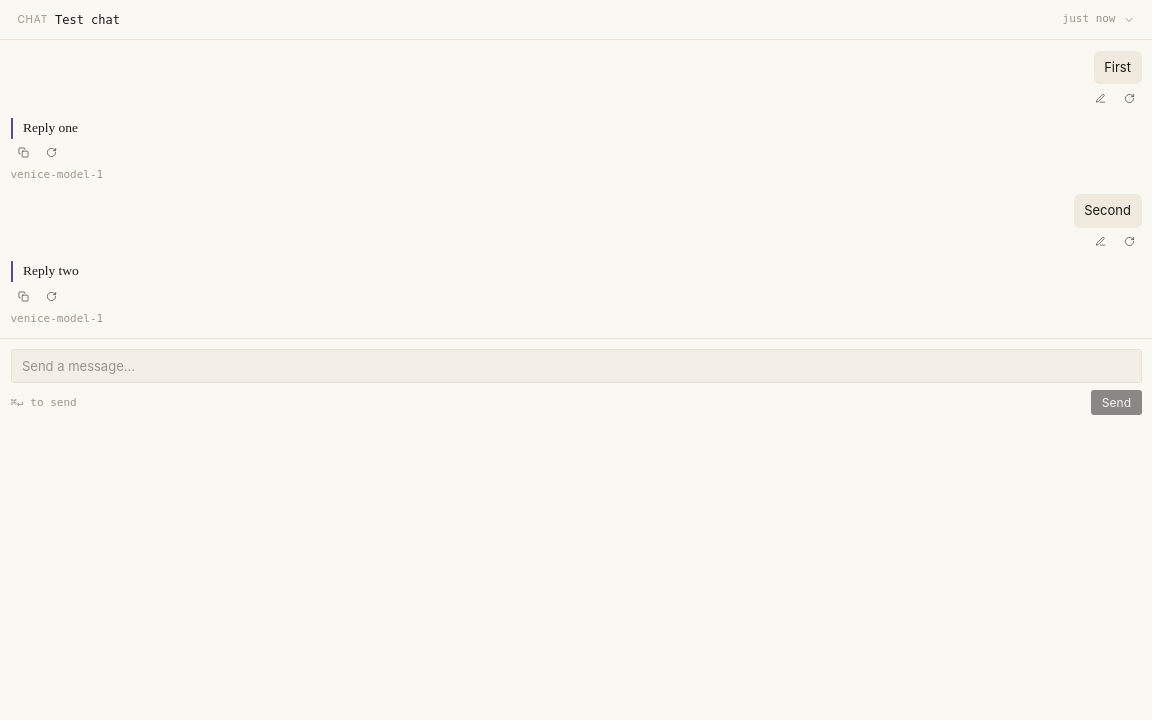
Test: ChatTab — useMessageActions integration › assistant Regenerate on a non-trailing reply confirms and replays from its preceding user turn
This screenshot has width=1152, height=720.
Expected: the element with test id "chat-tab" is shown, [0,0,1151,426]
Click the button named "Regenerate" below "Reply one": (52, 153) [39,144,64,162]
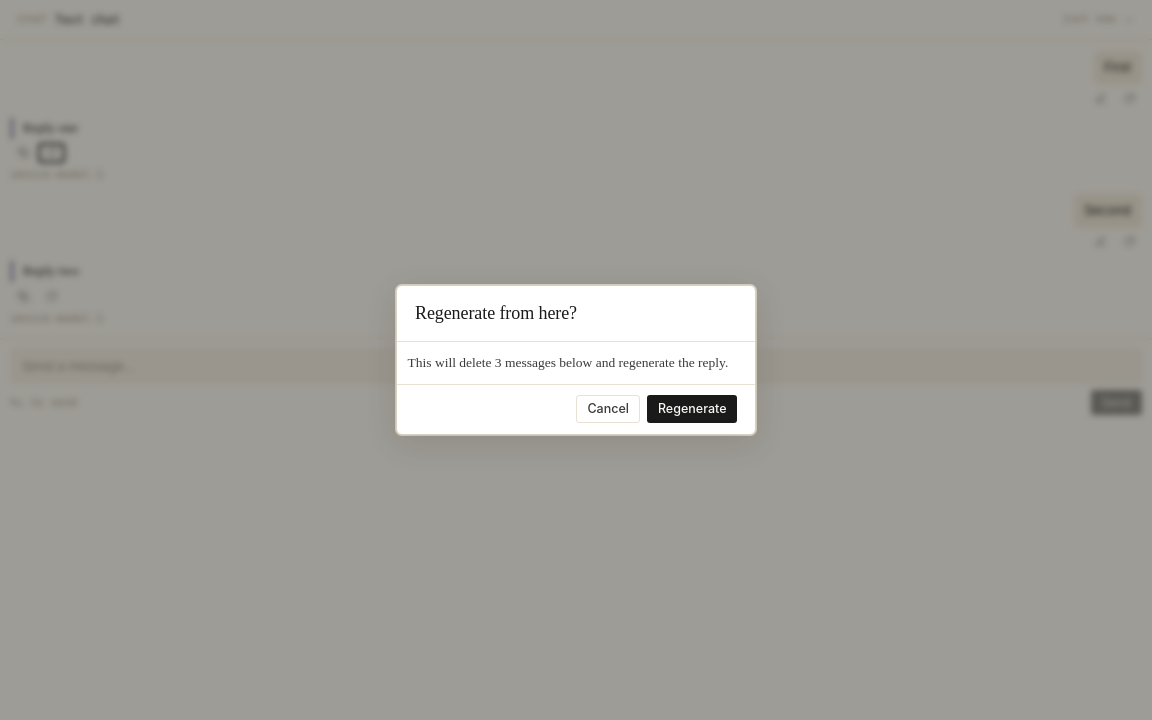
Expected: the dialog with test id "resend-confirm" is shown, [396,285,756,435]
Expected: the dialog with test id "resend-confirm" shows "3 messages", [408,354,728,370]
Expected: the button "Regenerate" is shown, [647,396,737,424]
